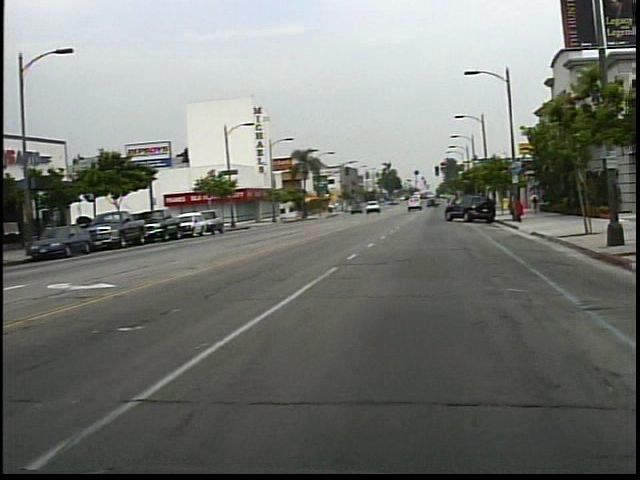person: (532, 188, 546, 217)
